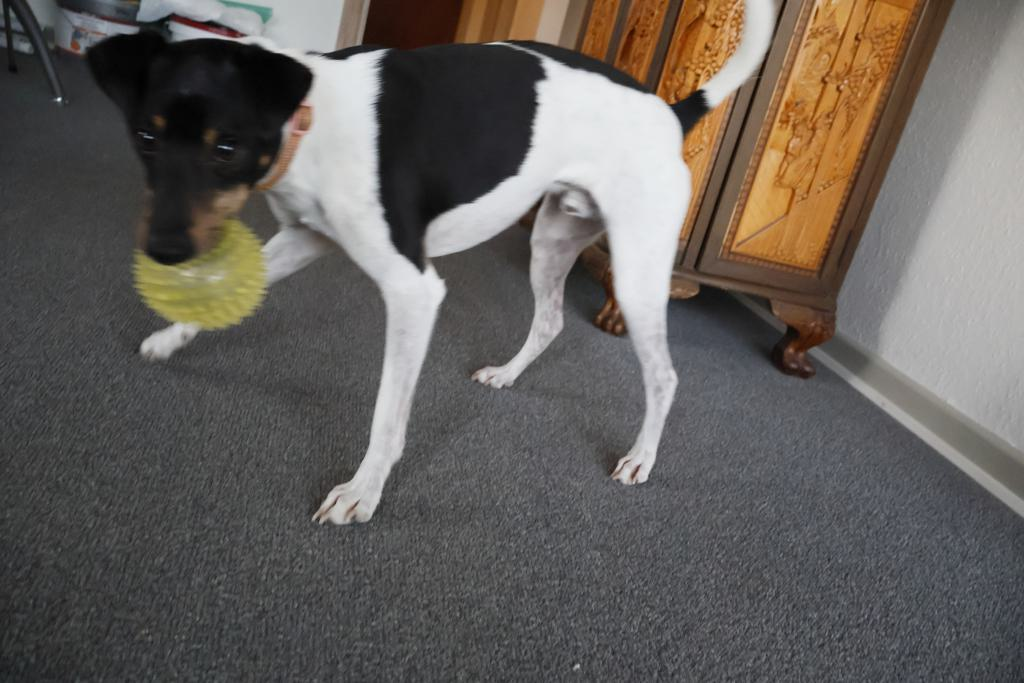Dog: (74, 0, 785, 536)
